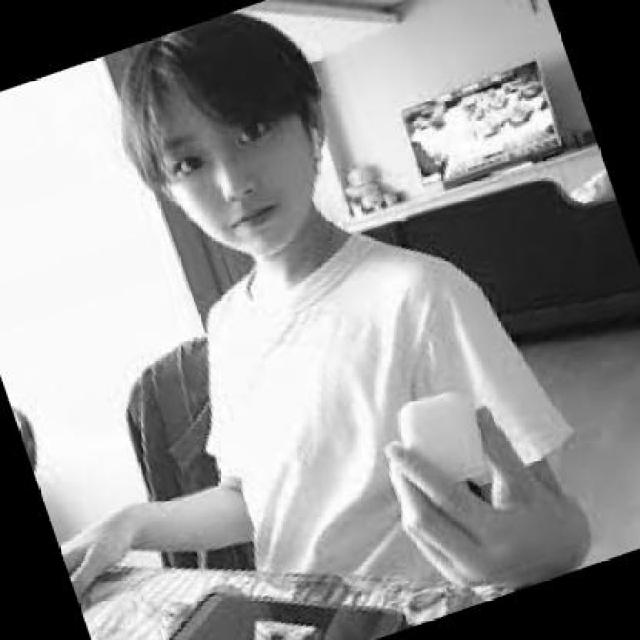earphone: (303, 121, 334, 162)
smart phone: (148, 586, 421, 640)
